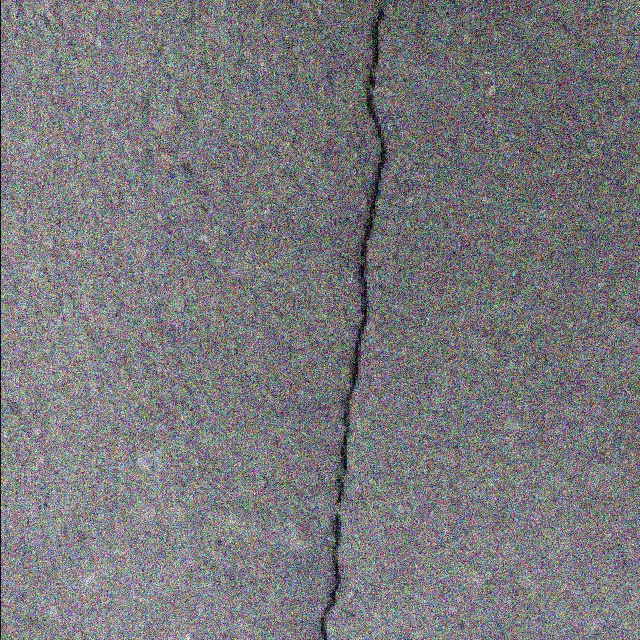SurfaceCrack: (260, 0, 420, 640)
